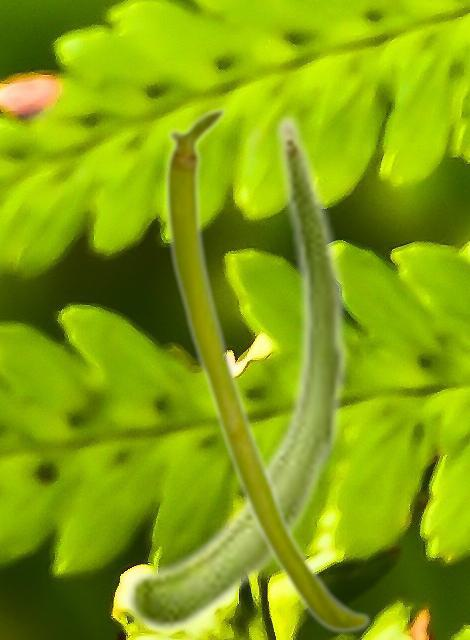french_bean: (123, 111, 350, 633), (163, 105, 371, 634)
